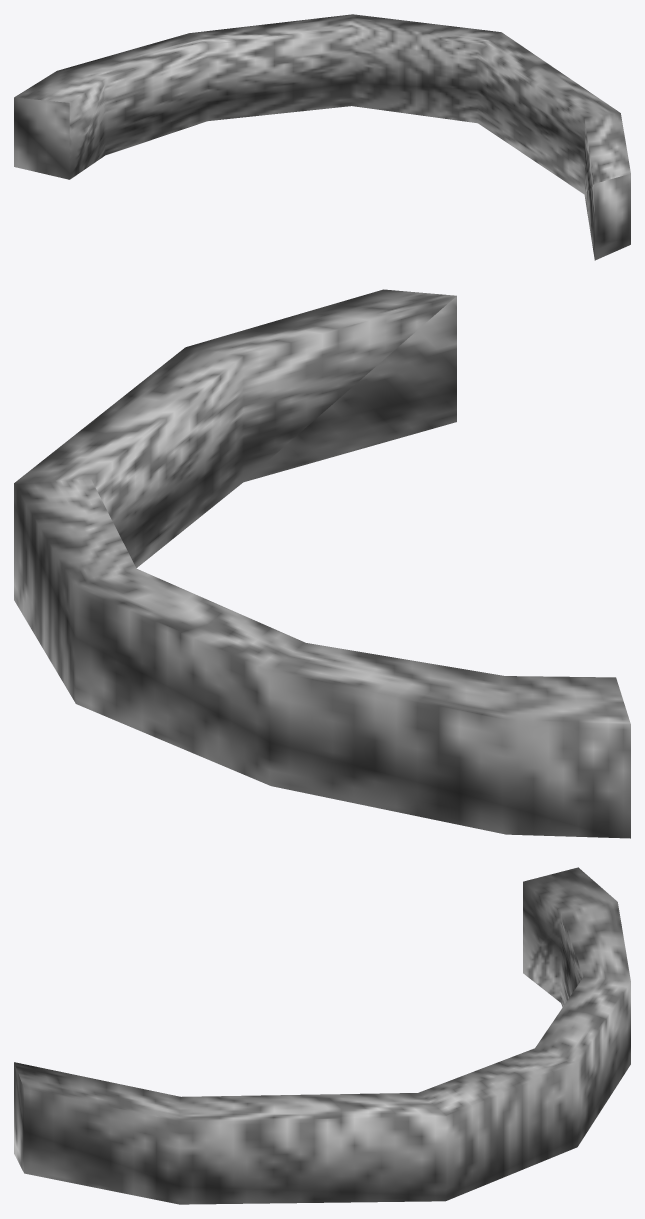
The model's file is Wig_Kate_Hair_MohawkShort.fbx.
The picture shows the model from 3 angles, top to bottom: view 1: azimuth 30°, elevation 25°; view 2: azimuth 150°, elevation 25°; view 3: azimuth 270°, elevation 25°; orthographic projection. The views are drawn at different scales.
Parts seen in each view (by area): view 1: BoxOfJars003; view 2: BoxOfJars003; view 3: BoxOfJars003.
Part boxes in pixels (x1,y1,x2,y2): BoxOfJars003: (14,14,630,260); BoxOfJars003: (14,289,630,838); BoxOfJars003: (14,867,630,1204).
Bounding box in the file's own units: 11.04 × 1.85 × 11.3.
